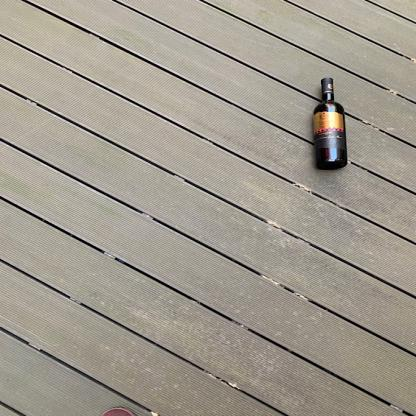trash: (300, 78, 351, 173)
